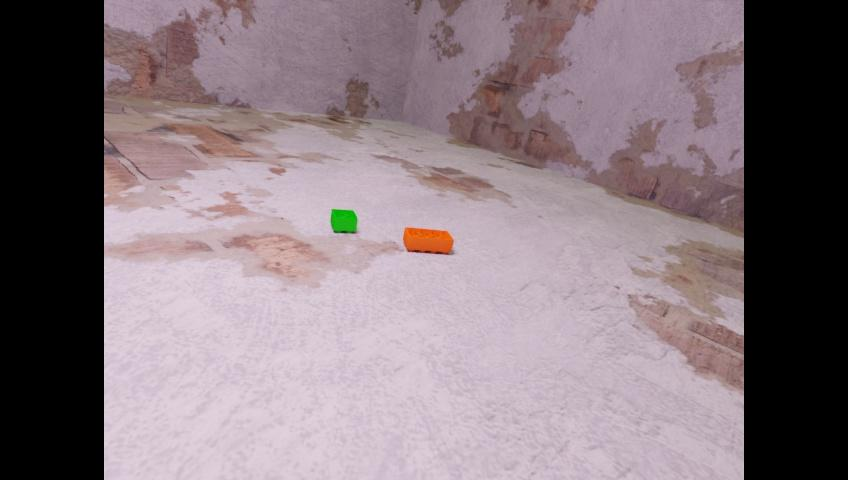2x2_green: (330, 208, 357, 232)
4x2_orange: (402, 226, 453, 253)
